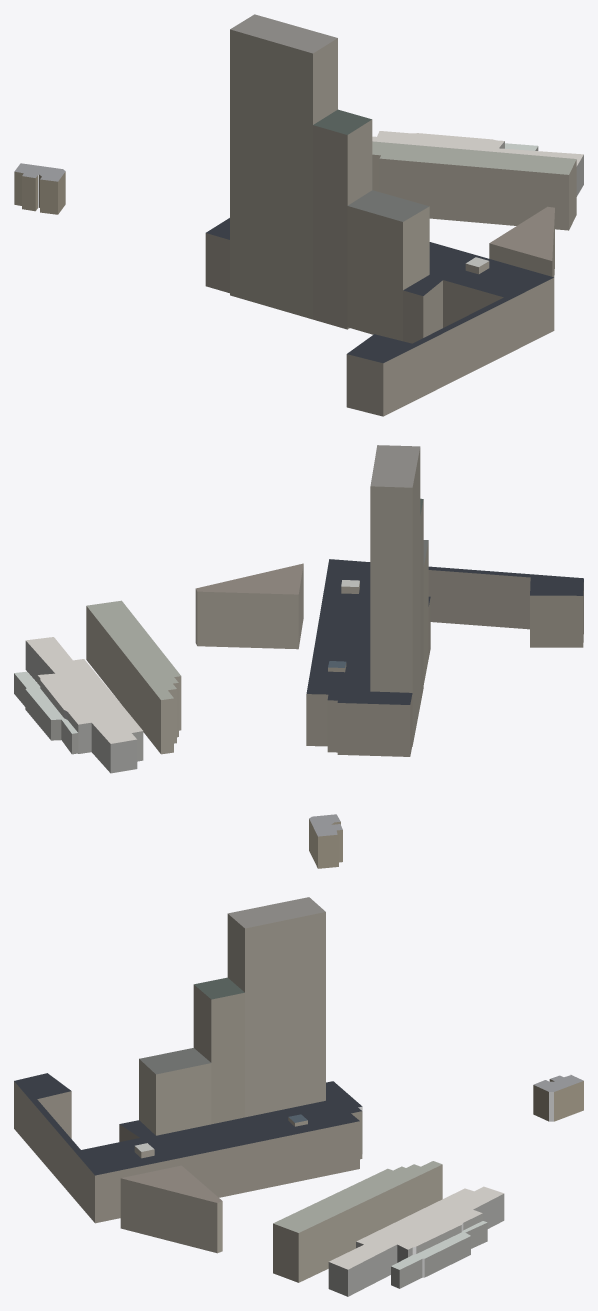
3 renders of one model, top to bottom at view 1: azimuth 30°, elevation 25°; view 2: azimuth 150°, elevation 25°; view 3: azimuth 270°, elevation 25°, orthographic. The views are drawn at different scales.
Visible parts, largest first — view 1: tuile; view 2: tuile; view 3: tuile.
Part boxes in pixels (<box>): tuile: <box>14,14,583,416</box>; tuile: <box>14,445,583,868</box>; tuile: <box>14,897,583,1296</box>.
Bounding box in the file's own units: 263 × 150 × 325.
